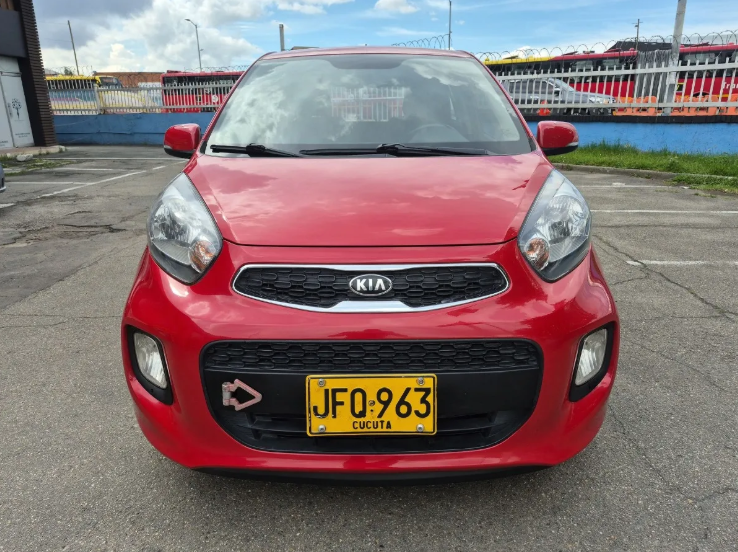placa: (306, 376, 437, 434)
